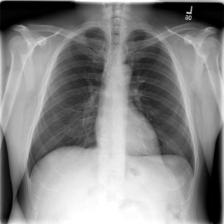normal: (24, 22, 202, 207)
